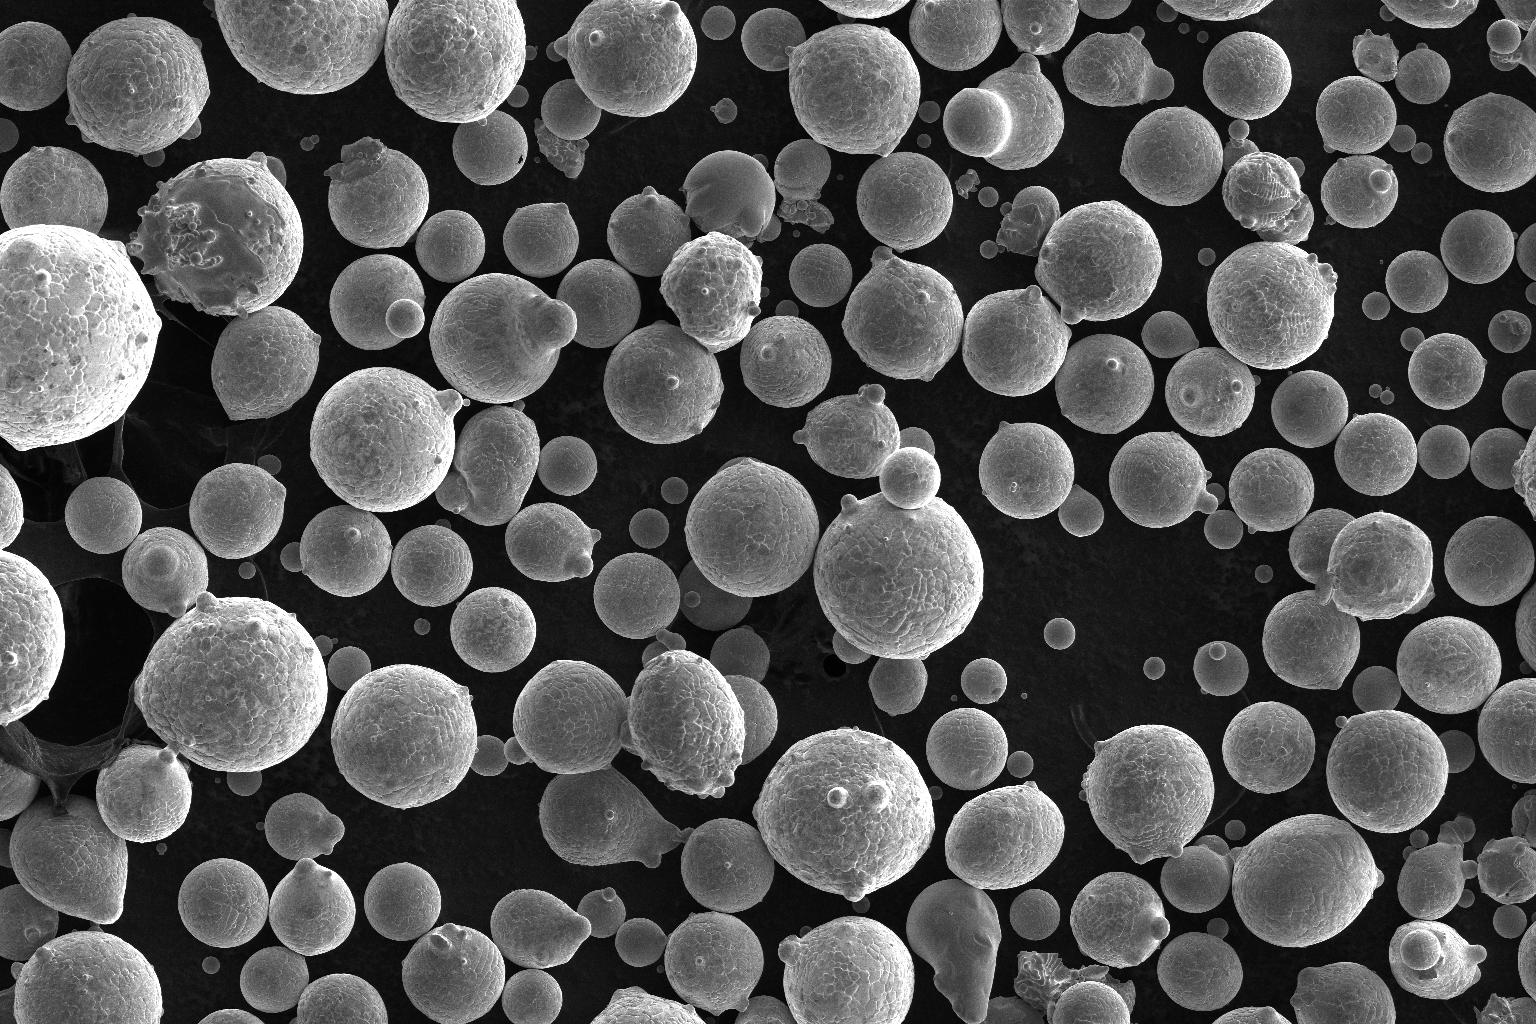Powder: (504, 661, 695, 866), (0, 224, 162, 450), (134, 592, 329, 773), (1262, 509, 1435, 690), (753, 729, 934, 903), (1161, 815, 1384, 949), (126, 151, 304, 318), (813, 491, 984, 659), (309, 367, 463, 512), (330, 662, 480, 810), (65, 13, 211, 158), (429, 272, 578, 405), (1079, 725, 1216, 865), (686, 457, 821, 597), (784, 23, 922, 158), (619, 650, 745, 798), (384, 0, 526, 126), (840, 246, 965, 384), (1206, 241, 1338, 369), (214, 0, 390, 95), (555, 1, 697, 117), (1325, 707, 1451, 834), (1034, 199, 1162, 325), (1109, 431, 1243, 549), (11, 921, 165, 1024), (9, 792, 128, 923), (603, 318, 725, 443), (778, 917, 915, 1024), (943, 53, 1065, 170), (906, 880, 1002, 1024), (435, 400, 541, 526), (946, 779, 1064, 890), (209, 305, 321, 421), (658, 232, 763, 354), (962, 283, 1073, 398), (323, 136, 430, 248), (0, 551, 65, 727), (665, 910, 766, 1016), (401, 923, 506, 1023), (1119, 107, 1224, 207), (679, 150, 783, 249), (1397, 615, 1501, 713), (793, 384, 901, 479), (856, 152, 954, 254), (1056, 334, 1154, 435), (1070, 871, 1170, 969), (97, 741, 194, 842), (0, 145, 109, 235), (979, 421, 1075, 520), (329, 254, 427, 350), (189, 463, 287, 559), (1443, 91, 1536, 192), (1014, 949, 1137, 1024), (1062, 26, 1175, 107), (681, 817, 774, 913), (299, 505, 394, 598), (1222, 151, 1314, 245), (1223, 701, 1317, 793), (1165, 346, 1261, 437), (741, 315, 832, 409), (1398, 814, 1478, 920), (267, 858, 354, 955), (178, 858, 270, 949), (1445, 517, 1536, 606), (1157, 918, 1243, 1011), (490, 888, 591, 968), (504, 502, 602, 583), (1389, 919, 1487, 1000), (122, 527, 209, 618), (449, 585, 537, 674), (1203, 31, 1291, 120), (592, 553, 681, 640), (607, 186, 693, 277), (557, 258, 641, 347), (1229, 448, 1314, 534), (1334, 411, 1417, 496), (926, 706, 1009, 789), (391, 525, 474, 606), (534, 80, 601, 178), (909, 0, 1002, 70), (1291, 961, 1397, 1023), (0, 22, 72, 111), (1317, 75, 1397, 155), (1408, 331, 1488, 410), (363, 862, 441, 941), (1477, 678, 1535, 783), (773, 138, 835, 235), (1271, 370, 1349, 448), (65, 475, 142, 554), (453, 110, 528, 186), (1440, 210, 1519, 283), (1321, 155, 1399, 229), (264, 792, 345, 862), (504, 202, 579, 277), (678, 558, 754, 631), (416, 210, 486, 283), (722, 677, 778, 765), (289, 974, 389, 1023), (239, 946, 309, 1013), (0, 885, 59, 961), (995, 186, 1061, 256), (591, 985, 706, 1024), (1001, 0, 1080, 55), (789, 243, 853, 309), (1384, 250, 1449, 314), (741, 8, 807, 71), (879, 448, 942, 510), (1477, 837, 1535, 903), (537, 437, 599, 497), (867, 658, 929, 718), (709, 625, 770, 683), (1469, 427, 1526, 489), (1395, 42, 1450, 104), (502, 969, 562, 1024), (1193, 641, 1249, 697), (1417, 424, 1471, 479), (1141, 312, 1199, 359), (1379, 0, 1479, 27), (1351, 29, 1399, 83), (1010, 889, 1061, 941), (577, 886, 626, 938), (615, 918, 667, 966), (1057, 483, 1104, 537), (0, 763, 42, 822), (1510, 427, 1535, 523), (1163, 0, 1274, 22), (1491, 24, 1536, 75), (1352, 666, 1401, 712), (961, 657, 1008, 704), (0, 464, 25, 550), (1501, 370, 1535, 430), (328, 647, 371, 693), (1223, 120, 1261, 173), (981, 995, 1047, 1024), (1488, 310, 1531, 353), (733, 995, 797, 1024), (1515, 581, 1535, 674), (1474, 992, 1535, 1022), (821, 0, 910, 19), (629, 507, 669, 549), (470, 735, 509, 777), (1440, 730, 1475, 773), (1211, 1006, 1291, 1024), (1511, 789, 1535, 849), (1518, 922, 1535, 1001), (701, 5, 736, 41), (832, 632, 871, 664), (1487, 19, 1522, 54), (1493, 904, 1528, 938), (901, 426, 936, 459), (1515, 223, 1535, 281), (1497, 0, 1536, 27), (1078, 0, 1131, 19), (1045, 617, 1075, 650), (198, 1009, 263, 1023), (226, 771, 263, 795), (661, 475, 689, 504), (955, 168, 981, 200), (1389, 125, 1416, 153), (1362, 291, 1390, 320), (710, 97, 738, 123), (0, 117, 21, 152), (1008, 751, 1034, 778), (642, 640, 669, 667), (1, 984, 18, 1024), (280, 542, 302, 571), (1400, 327, 1426, 351), (719, 456, 763, 470), (657, 631, 686, 651), (267, 155, 286, 187), (313, 634, 338, 657), (0, 827, 14, 869), (1369, 383, 1394, 405), (256, 455, 282, 475), (507, 85, 530, 107), (918, 101, 941, 122), (1144, 657, 1166, 679), (978, 186, 999, 208), (1411, 143, 1432, 165), (1206, 483, 1226, 505), (1157, 2, 1178, 22), (774, 299, 800, 315), (1286, 157, 1305, 177), (1225, 821, 1246, 840), (143, 149, 165, 167), (547, 40, 563, 63), (238, 561, 257, 579), (201, 955, 219, 975), (1198, 247, 1216, 266), (1410, 829, 1429, 848), (979, 240, 998, 258), (1255, 565, 1273, 583), (751, 153, 769, 170), (1459, 889, 1477, 907), (177, 752, 191, 775), (413, 618, 430, 635), (853, 897, 870, 913), (299, 136, 315, 151), (917, 134, 933, 149), (1526, 282, 1535, 305), (435, 519, 453, 530), (838, 14, 856, 24), (929, 786, 942, 800), (527, 45, 538, 59), (1197, 31, 1209, 43), (1323, 215, 1337, 226), (800, 926, 813, 937), (1178, 23, 1189, 35), (157, 843, 167, 855), (761, 287, 770, 298), (310, 135, 320, 144), (256, 822, 265, 830), (705, 1017, 715, 1024), (463, 398, 471, 406), (792, 230, 800, 238), (657, 965, 665, 973), (1019, 693, 1029, 699), (533, 157, 541, 163), (837, 174, 843, 181), (951, 695, 957, 701), (215, 777, 219, 783)
